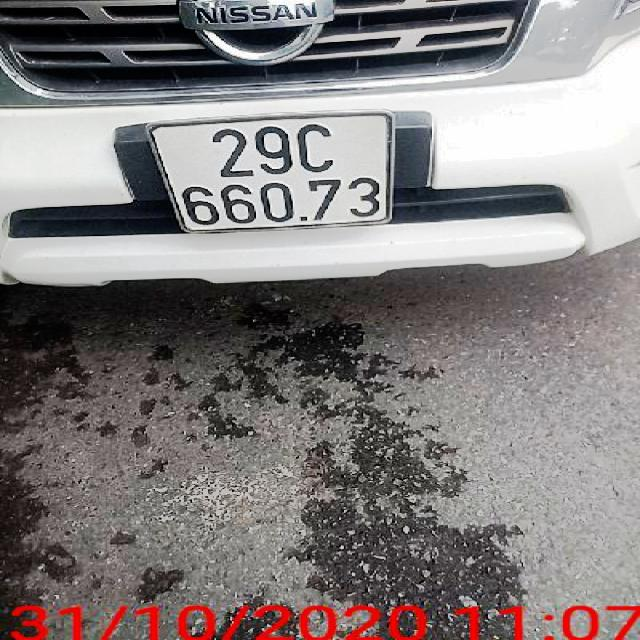license_plate: (147, 115, 394, 236)
